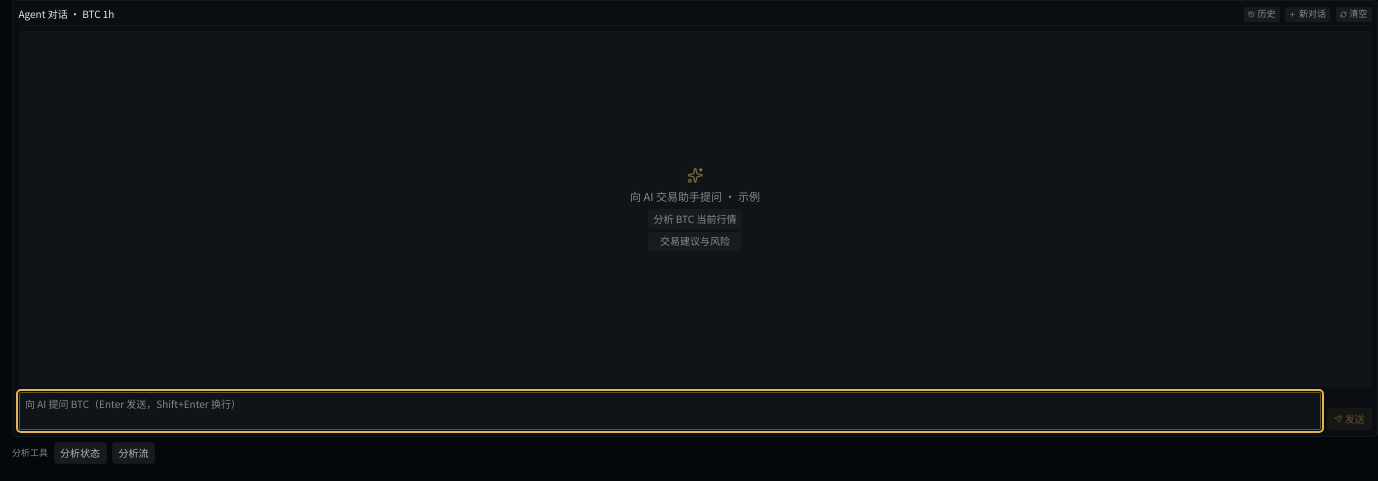
Test: AgentChatPage — B0 确认门(page 面曾漏,须与 FAB 面同源) › 收到 tool_approval_request → 渲染确认卡(工具名+参数),同 id 只一张
Type "部署 bb_v3" into the text box with placeholder "向 AI 提问 BTC（Enter 发送，Shift+Enter 换行）". click: (670, 411)
box: [18, 392, 1321, 430]
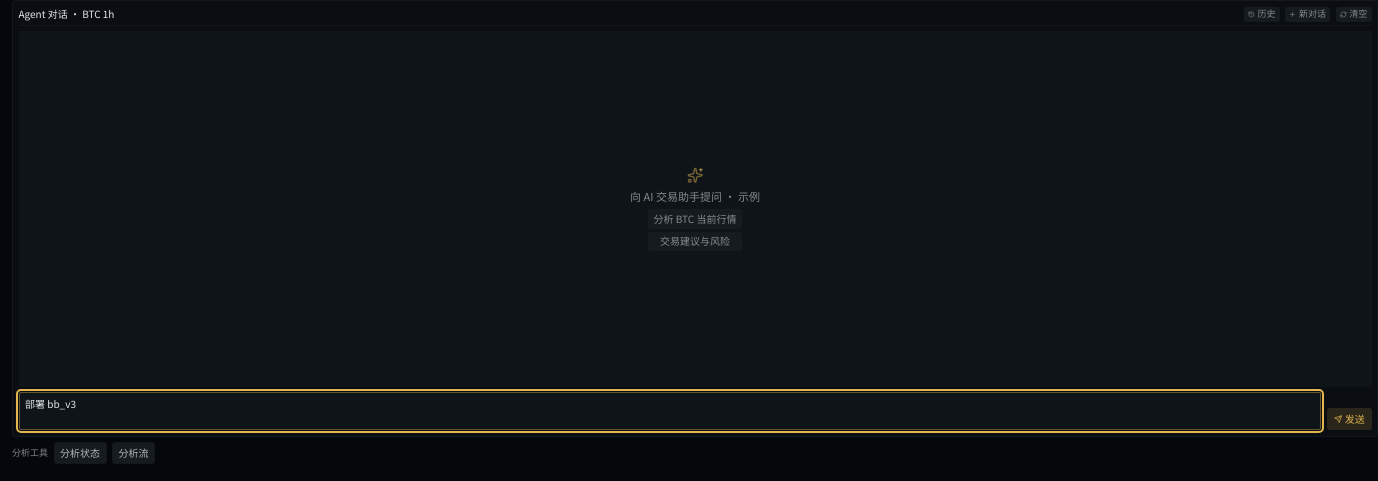
Click the button "发送". click: (1349, 419)
box: [1327, 408, 1372, 430]
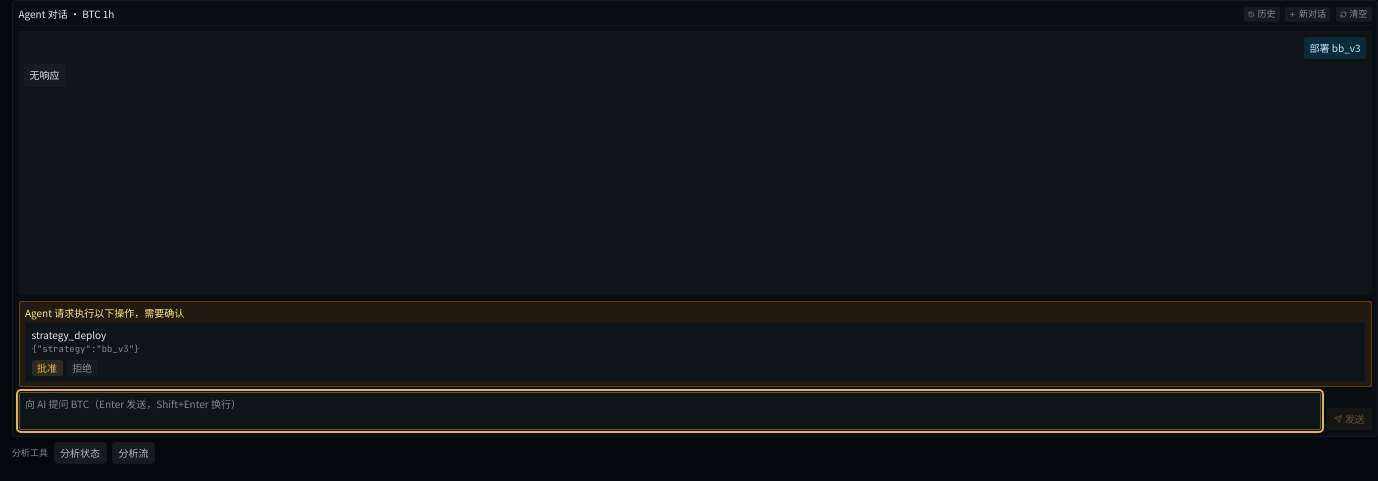
Expected: the text "Agent 请求执行以下操作，需要确认" is shown, [25, 305, 184, 320]
Expected: the text "strategy_deploy" is shown once, [32, 327, 106, 342]
Expected: the text "{\"strategy\":\"bb_v3\"}" is shown, [32, 343, 140, 355]
